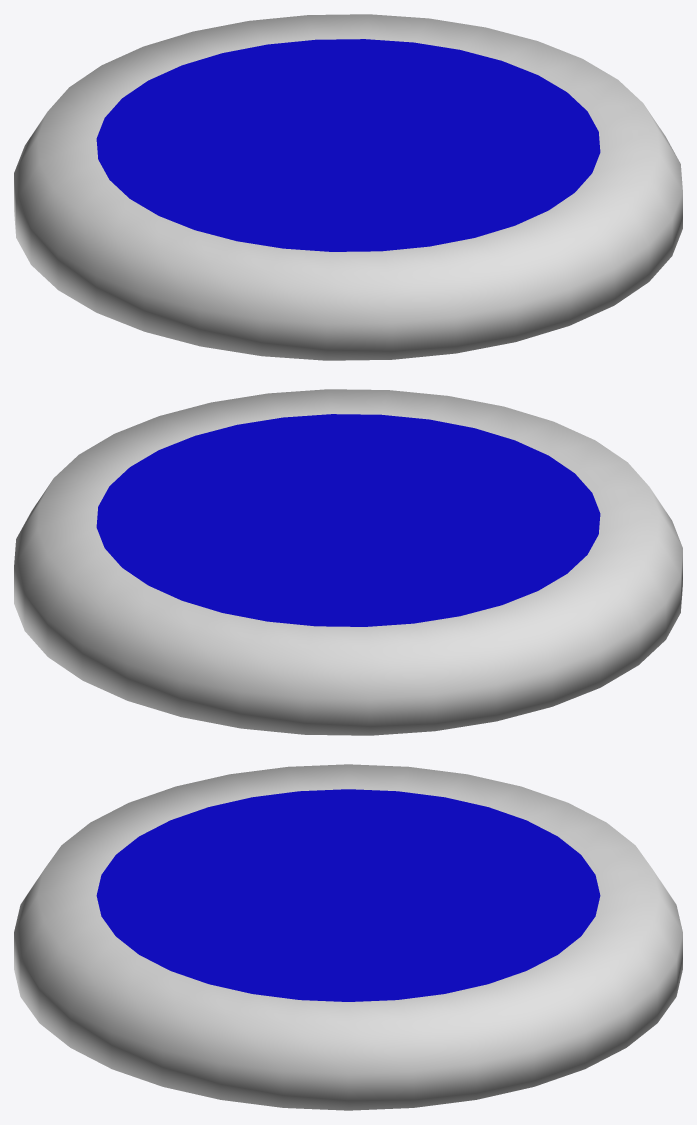
The model's file is pedestal.fbx.
3 views of the same model, one above another, from view 1: azimuth 30°, elevation 25°; view 2: azimuth 150°, elevation 25°; view 3: azimuth 270°, elevation 25° (orthographic).
Visible parts, largest first — view 1: Cylinder; view 2: Cylinder; view 3: Cylinder.
Boxes of the visible parts, x1,y1,x2,y2 form: Cylinder: (14,14,682,360); Cylinder: (14,389,682,735); Cylinder: (14,764,682,1110).
Bounding box in the file's own units: 0.3 × 0.0365 × 0.3.
